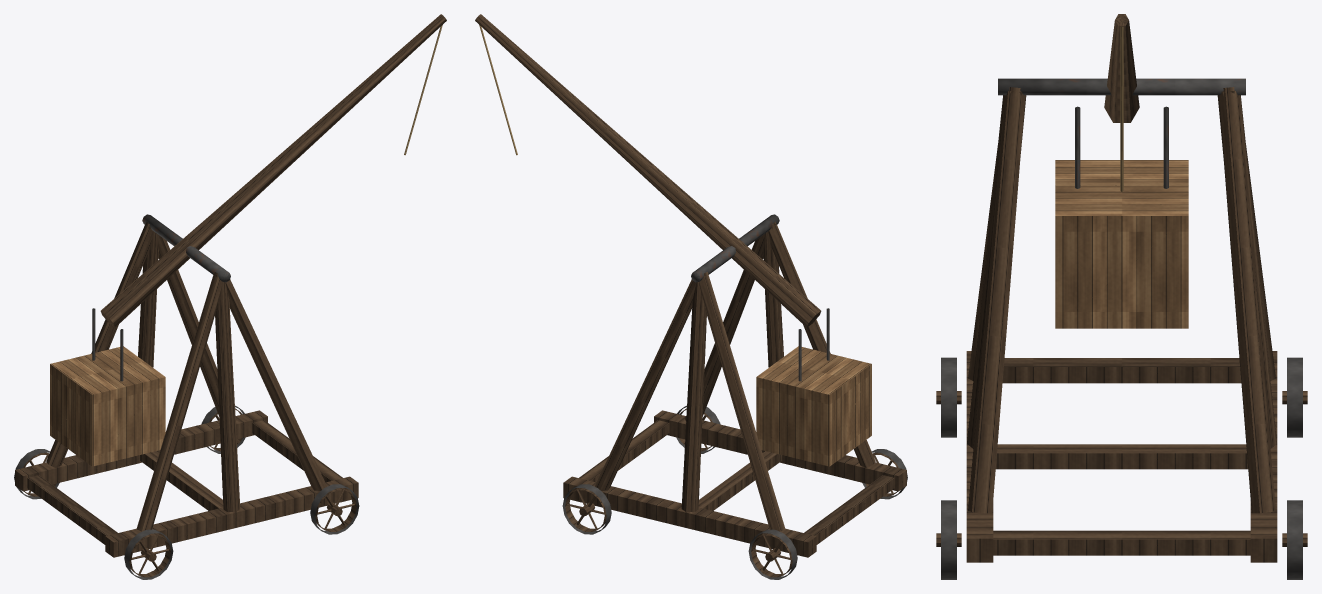
The model's file is Trebuchet_1.gltf.
The picture shows the model from 3 angles, left to right: view 1: azimuth 30°, elevation 25°; view 2: azimuth 150°, elevation 25°; view 3: azimuth 270°, elevation 25°; orthographic projection. The views are drawn at different scales.
Parts seen in each view (by area): view 1: Trebuchet_1; view 2: Trebuchet_1; view 3: Trebuchet_1.
Boxes of the visible parts, box(x1,y1,x2,y2) form: Trebuchet_1: box(14, 14, 446, 579); Trebuchet_1: box(475, 14, 907, 579); Trebuchet_1: box(936, 14, 1307, 579).
Bounding box in the file's own units: 7.79 × 8.54 × 4.19.
Materials: 4 (4 with a texture image).
